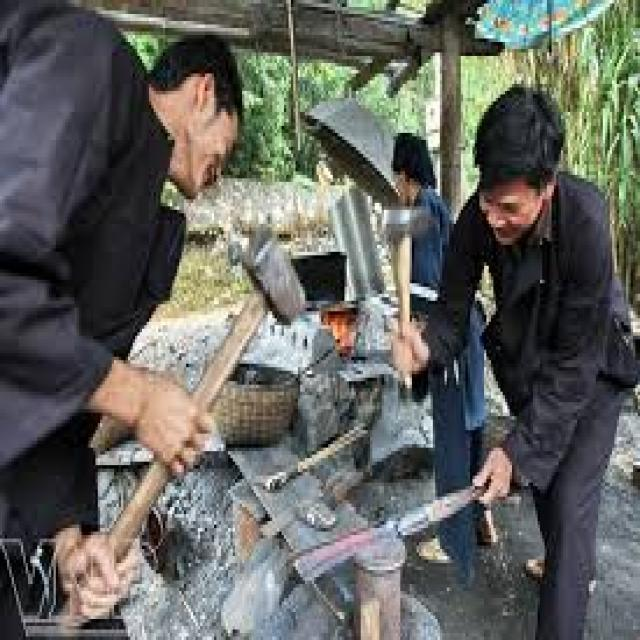hammer: (86, 183, 310, 600), (374, 190, 422, 387)
